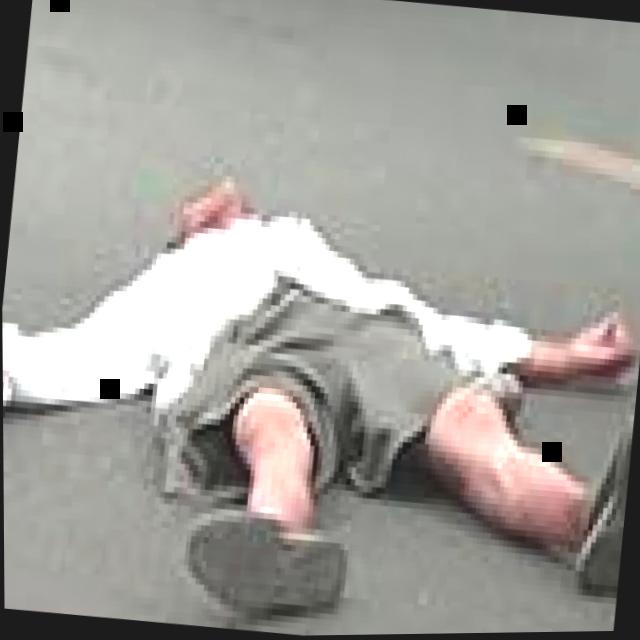Fall-Detected: (1, 108, 640, 640)
